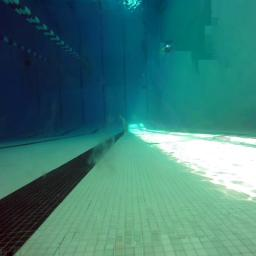Full: (141, 85, 147, 90)
front: (160, 40, 176, 56)
